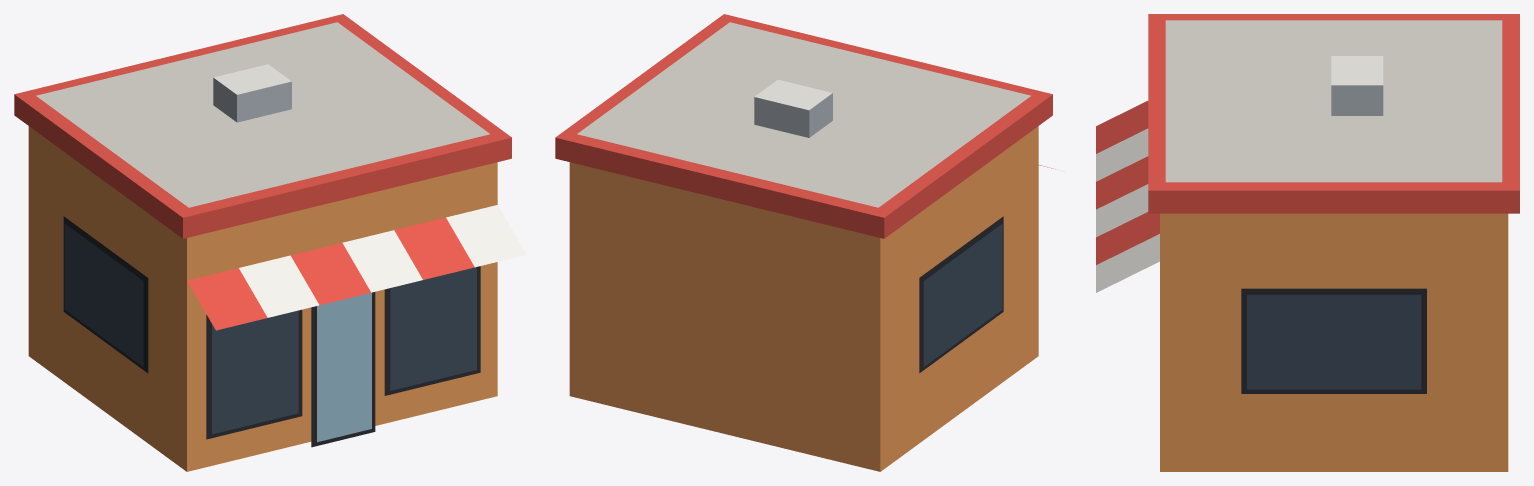
The model's file is B_ShopRed.fbx.
3 views of the same model, side by side, from view 1: azimuth 30°, elevation 25°; view 2: azimuth 150°, elevation 25°; view 3: azimuth 270°, elevation 25° (orthographic). The views are drawn at different scales.
Parts seen in each view (by area): view 1: B_ShopRed; view 2: B_ShopRed; view 3: B_ShopRed.
Boxes of the visible parts, x1,y1,x2,y2 form: B_ShopRed: [14, 14, 526, 471]; B_ShopRed: [555, 14, 1055, 471]; B_ShopRed: [1096, 14, 1519, 471].
Size of the model in its own units: 3.6 by 3.07 by 3.65.
